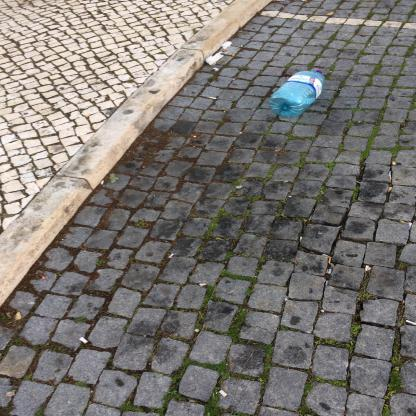plastik: (268, 68, 326, 118)
